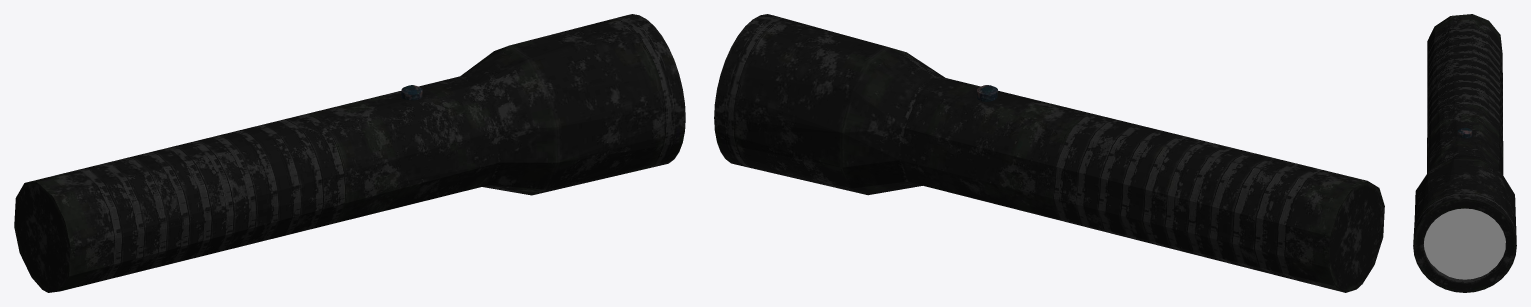
The picture shows the model from 3 angles, left to right: view 1: azimuth 30°, elevation 25°; view 2: azimuth 150°, elevation 25°; view 3: azimuth 270°, elevation 25°; orthographic projection. The views are drawn at different scales.
Visible parts, largest first — view 1: Flashlight_low; view 2: Flashlight_low; view 3: Flashlight_low, Button_low.
Boxes of the visible parts, x1,y1,x2,y2 form: Flashlight_low: [14, 14, 685, 292]; Flashlight_low: [714, 14, 1384, 292]; Flashlight_low: [1413, 14, 1516, 292]; Button_low: [1457, 127, 1472, 138].
Size of the model in its own units: 2 by 0.4434 by 0.4434.
